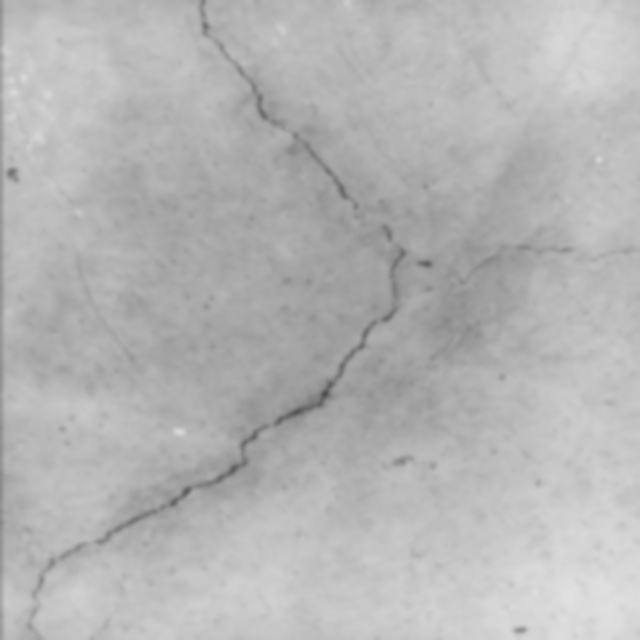SurfaceCrack: (1, 1, 635, 640)
